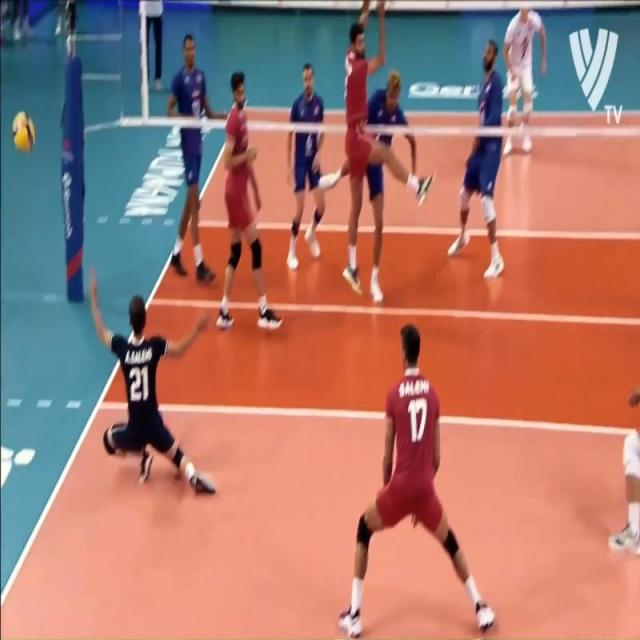volleyball: (11, 108, 36, 156)
